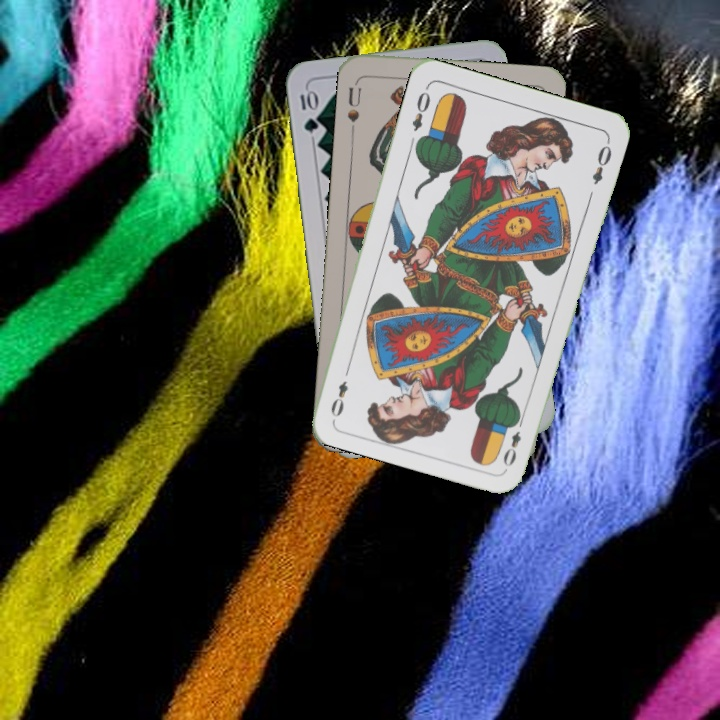EO: (499, 412, 527, 469), (407, 87, 433, 134)
G10: (296, 86, 321, 135)
SU: (343, 77, 364, 136)
